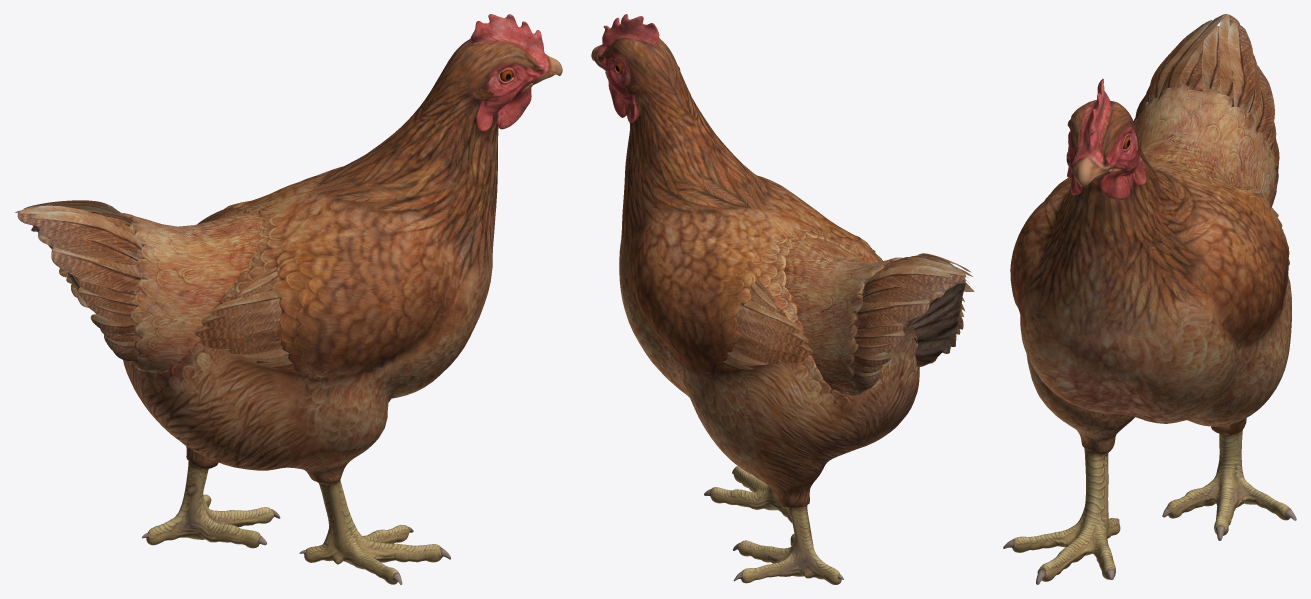
File: chicken.glb
The picture shows the model from 3 angles, left to right: view 1: azimuth 30°, elevation 25°; view 2: azimuth 150°, elevation 25°; view 3: azimuth 270°, elevation 25°; orthographic projection. The views are drawn at different scales.
Parts seen in each view (by area): view 1: node_id53_0; view 2: node_id53_0; view 3: node_id53_0.
Boxes of the visible parts, x1=… form: node_id53_0: x1=15, y1=14, x2=562, y2=584; node_id53_0: x1=591, y1=14, x2=974, y2=584; node_id53_0: x1=1003, y1=14, x2=1296, y2=584.
Size of the model in its own units: 1.05 by 1.07 by 0.5191.
1 material, 1 textured.
